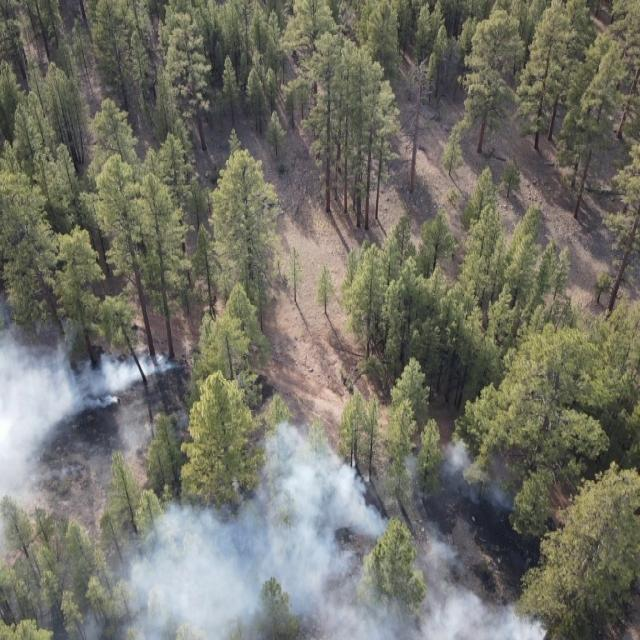fire: (148, 360, 160, 371)
smoke: (252, 426, 386, 640), (156, 502, 253, 636), (386, 433, 524, 522), (0, 350, 184, 414), (0, 415, 70, 559), (386, 590, 546, 640), (82, 540, 156, 638), (410, 521, 481, 589), (0, 297, 88, 348)
